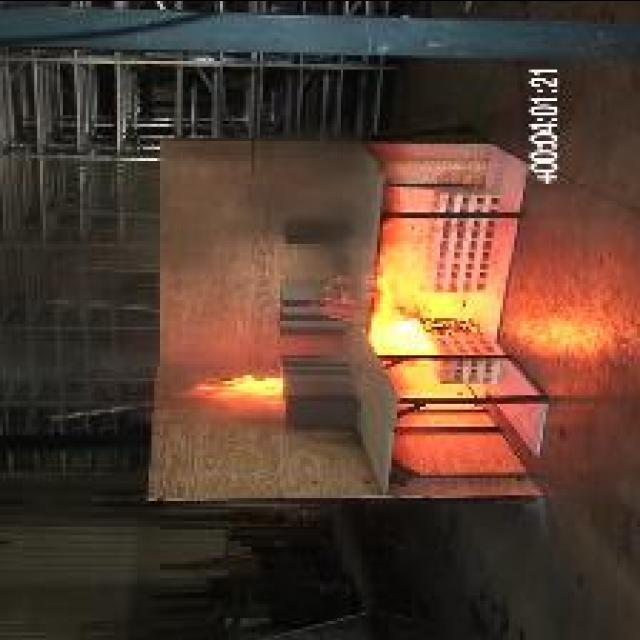Fire: (318, 238, 466, 352), (180, 374, 283, 400)
